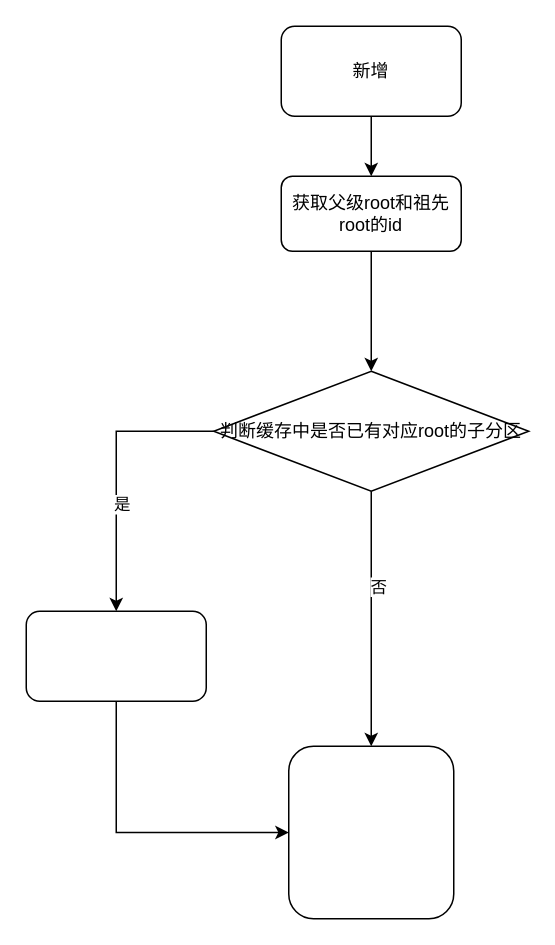
Image size: 555x945. Some labels were removed from this diagram. The shapes that lost their labels are listed below. From the top down, each one's centre as x and y in pixels, then its label:
pixel 115 655: 需要清除掉对应的缓存
pixel 370 832: 新增接口中不做缓存处理，如果下次查询将会直接读取数据库
